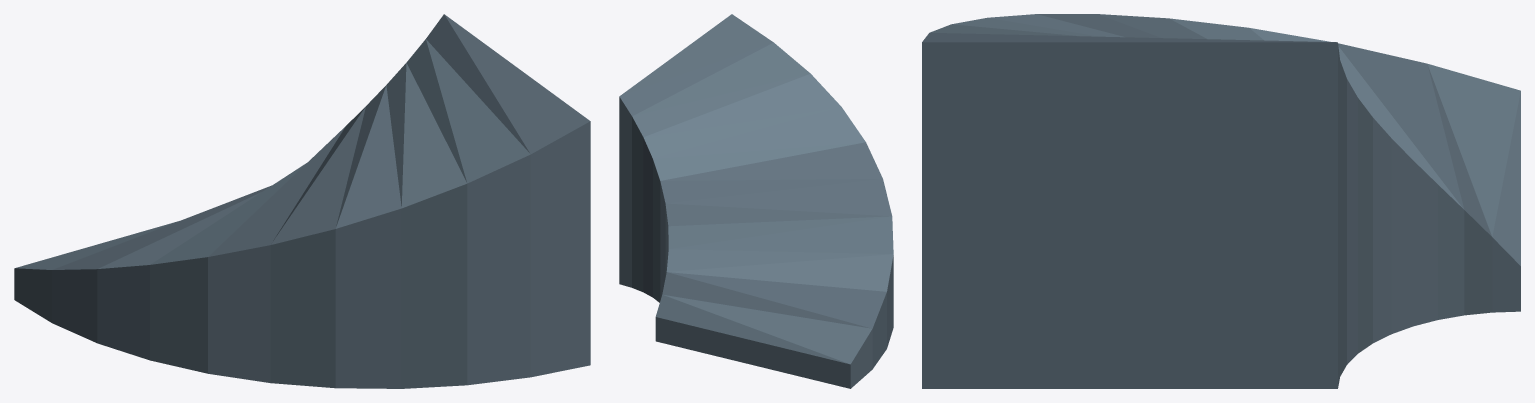
Rendered from P48_Ramp_Turn90.fbx.
3 views of the same model, side by side, from view 1: azimuth 30°, elevation 25°; view 2: azimuth 150°, elevation 25°; view 3: azimuth 270°, elevation 25° (orthographic). The views are drawn at different scales.
Visible parts, largest first — view 1: P48_Ramp_Turn90; view 2: P48_Ramp_Turn90; view 3: P48_Ramp_Turn90.
Part boxes in pixels (bbox=[...]): P48_Ramp_Turn90: bbox=[14, 14, 590, 388]; P48_Ramp_Turn90: bbox=[619, 14, 893, 388]; P48_Ramp_Turn90: bbox=[922, 14, 1520, 388].
Size of the model in its own units: 1.8 by 1.15 by 1.8.
1 material, 1 textured.
